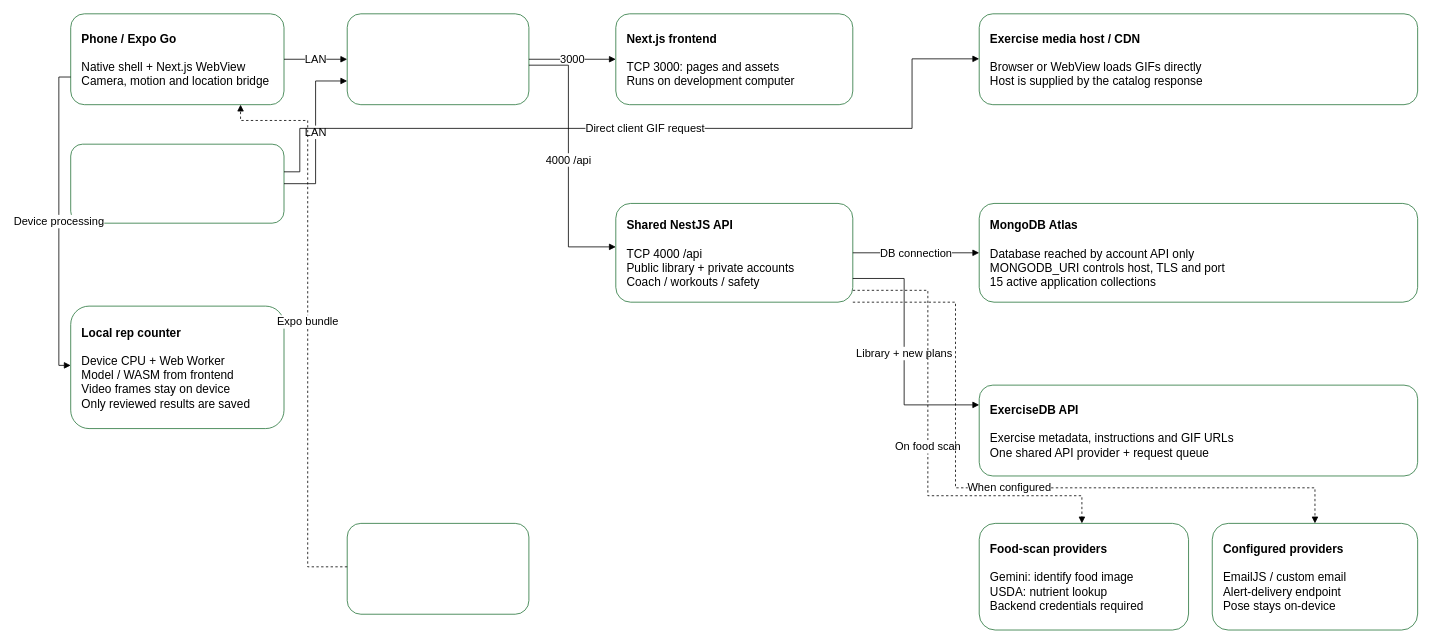
The diagram is 1431 pixels wide and 644 high, and some of its shapes have lost their labels. Here are the shapes that lost their labels. From the top down, the box of each, then its label:
(346, 13, 529, 105): Private Wi-Fi / LAN Phone and computer share LAN Example host: 192.168.1.10
(70, 143, 284, 223): Desktop browser Same Next.js frontend No Expo shell required
(346, 523, 529, 614): Expo Metro Usually TCP 8081 Development bundle only
